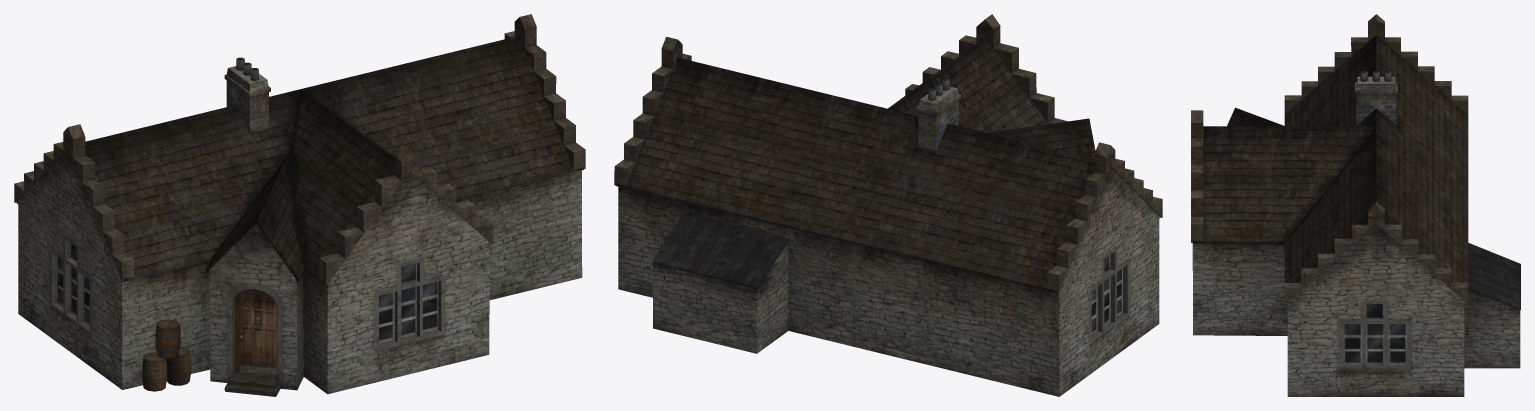
Rendered from house.obj.
The picture shows the model from 3 angles, left to right: view 1: azimuth 30°, elevation 25°; view 2: azimuth 150°, elevation 25°; view 3: azimuth 270°, elevation 25°; orthographic projection. The views are drawn at different scales.
Visible parts, largest first — view 1: House; view 2: House; view 3: House.
Boxes of the visible parts, x1,y1,x2,y2 form: House: (14, 14, 585, 396); House: (614, 14, 1162, 396); House: (1191, 14, 1520, 396).
Size of the model in its own units: 1232 by 621 by 894.
1 material, 1 textured.
